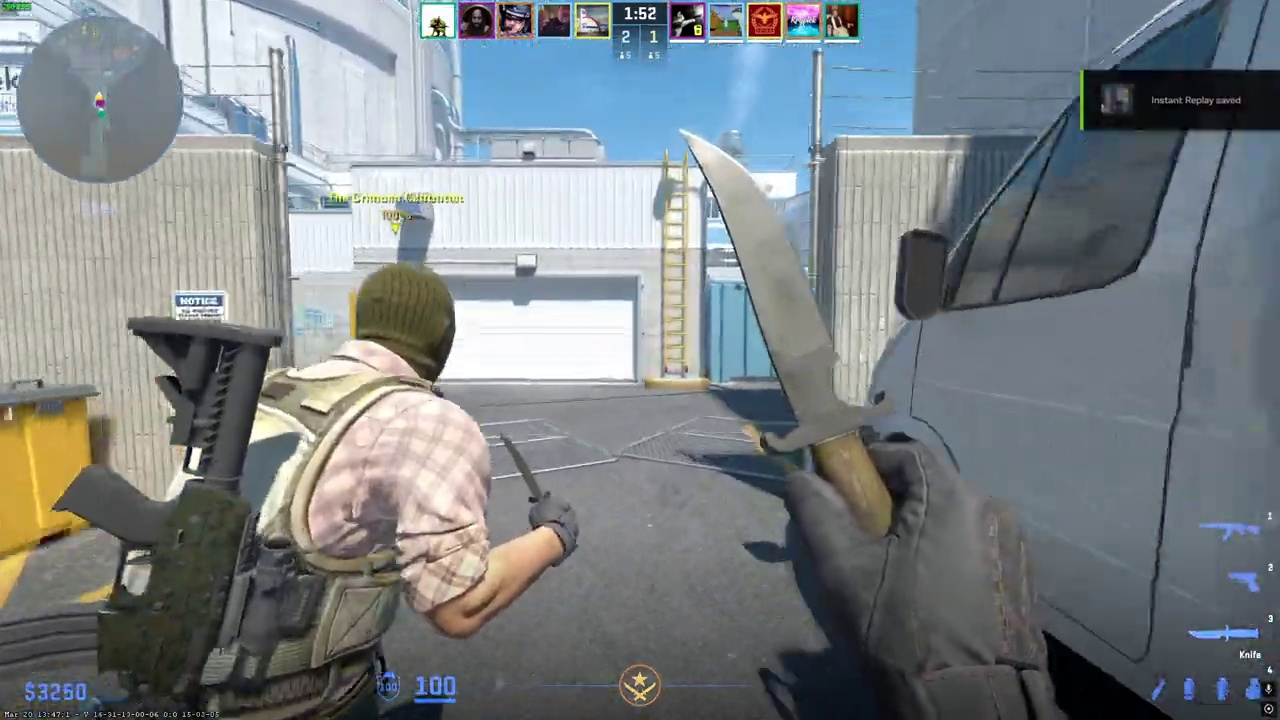Terrorist: (135, 259, 501, 719)
